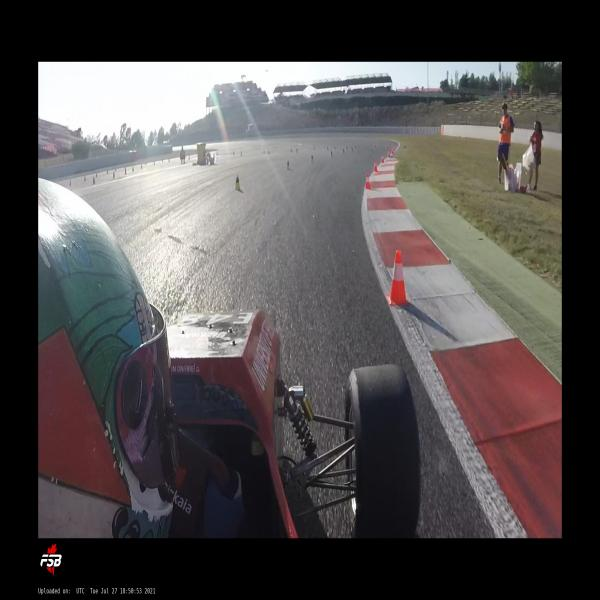orange_cone: (385, 250, 411, 306), (364, 172, 371, 189), (374, 160, 377, 171), (69, 178, 72, 187), (84, 174, 86, 182), (382, 155, 384, 163), (388, 150, 390, 157)
yellow_cone: (234, 175, 241, 190), (287, 160, 290, 170), (311, 155, 314, 163), (331, 151, 334, 157), (342, 149, 344, 154), (351, 147, 353, 151)
